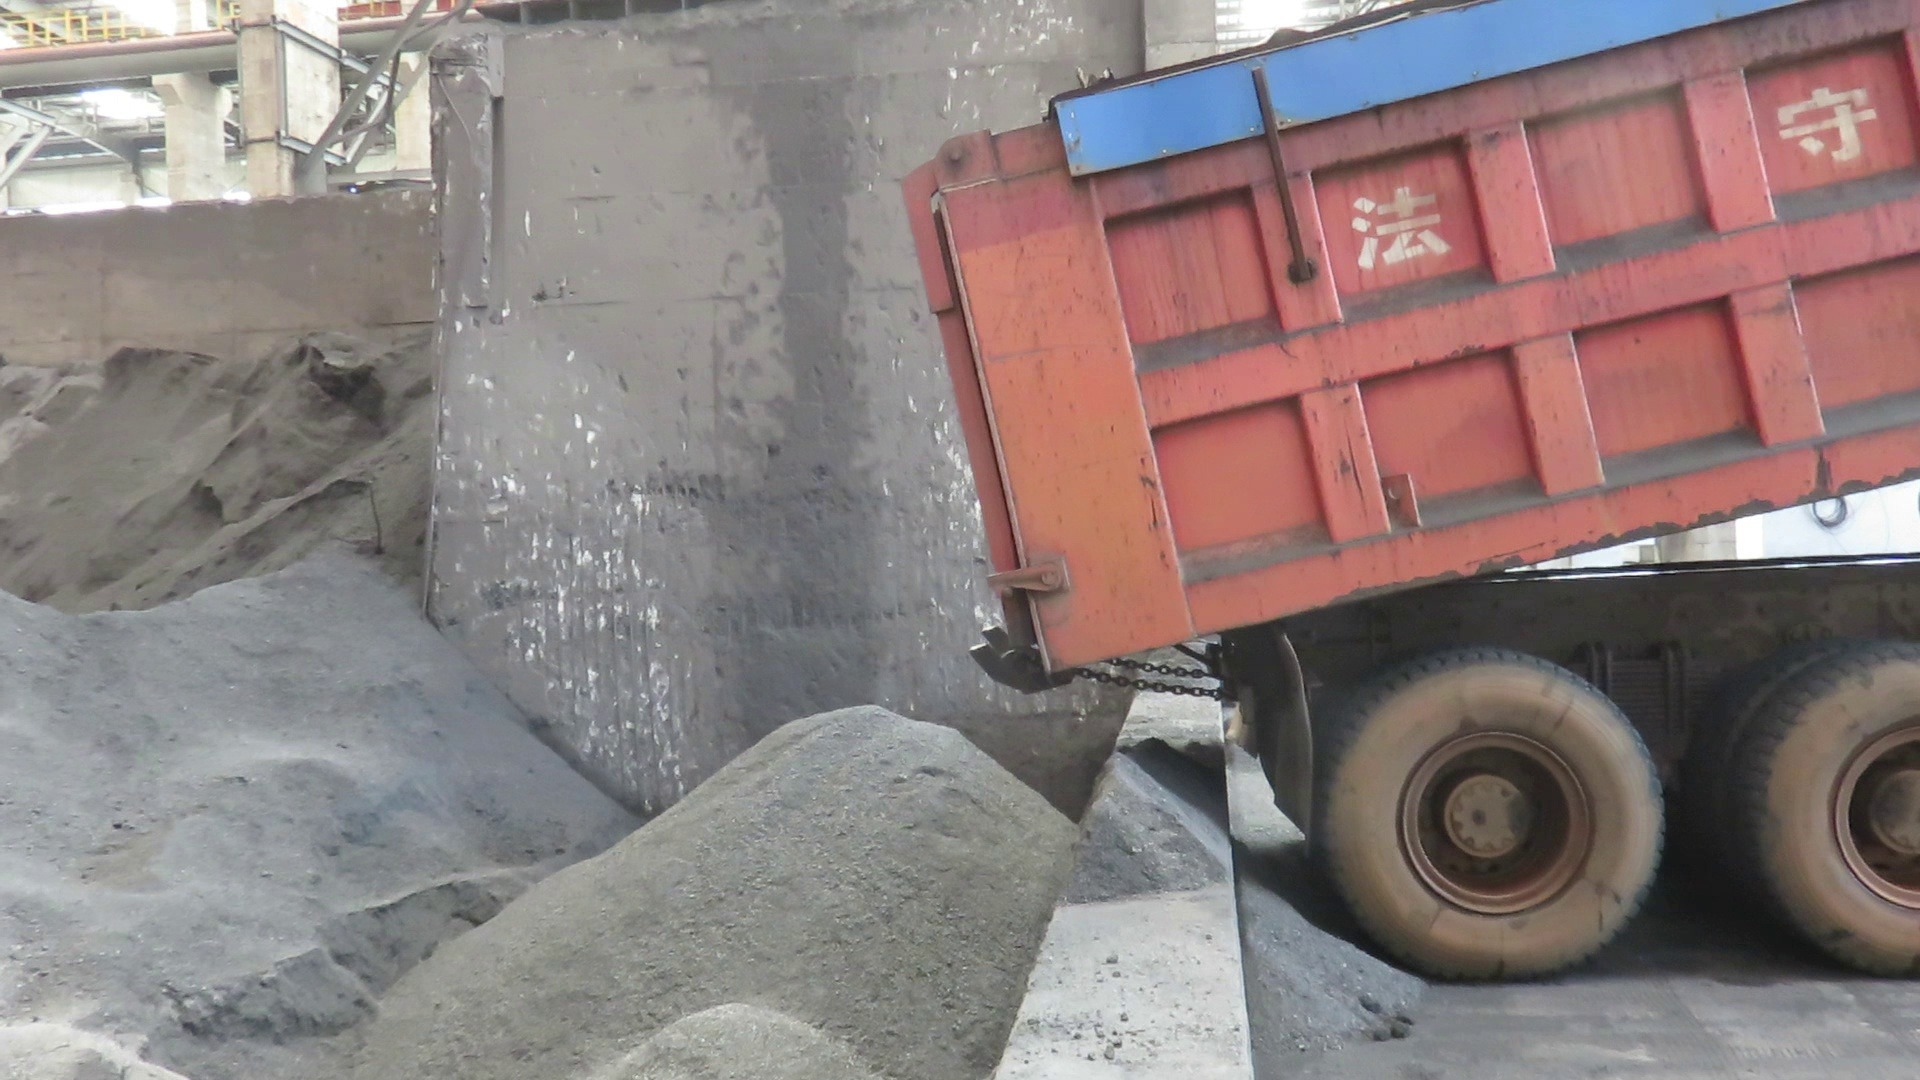truck: (887, 0, 1920, 1004)
